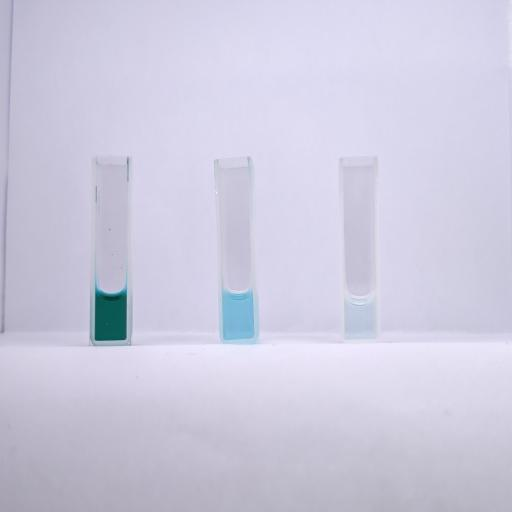cuvette: (212, 154, 261, 344), (88, 153, 134, 346), (338, 154, 383, 344)
liquid: (222, 288, 254, 338), (95, 289, 126, 340), (345, 293, 376, 339)
